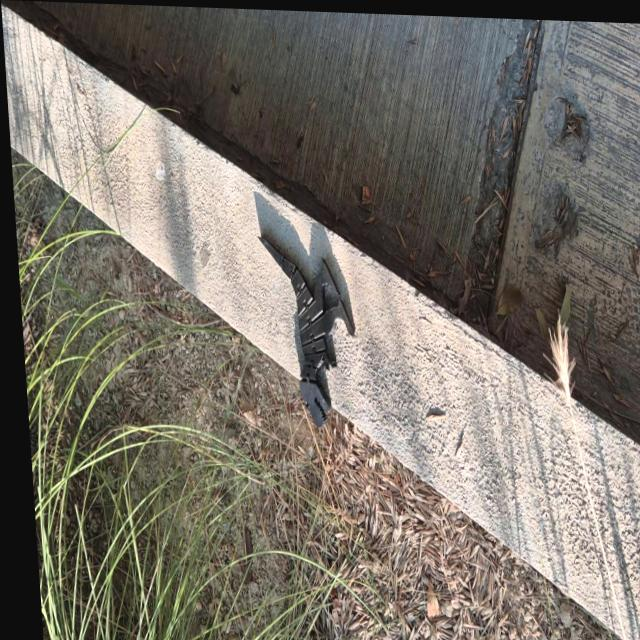dino: (255, 235, 362, 430)
